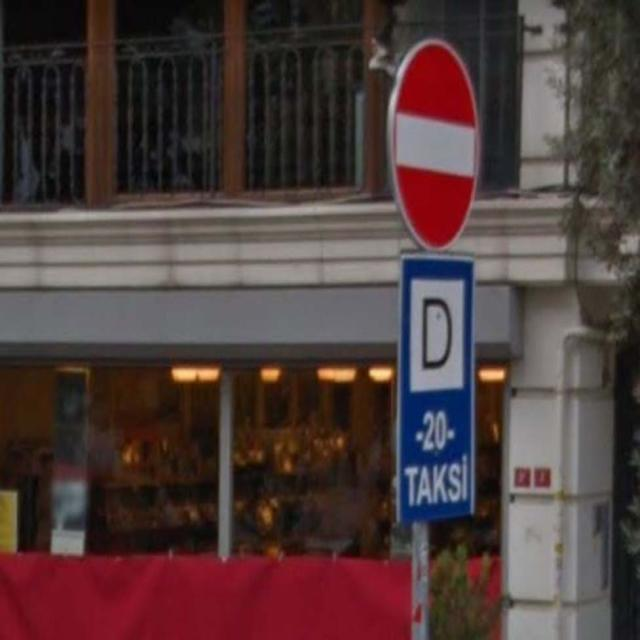durak: (402, 258, 469, 396)
girisyok: (390, 37, 478, 251)
